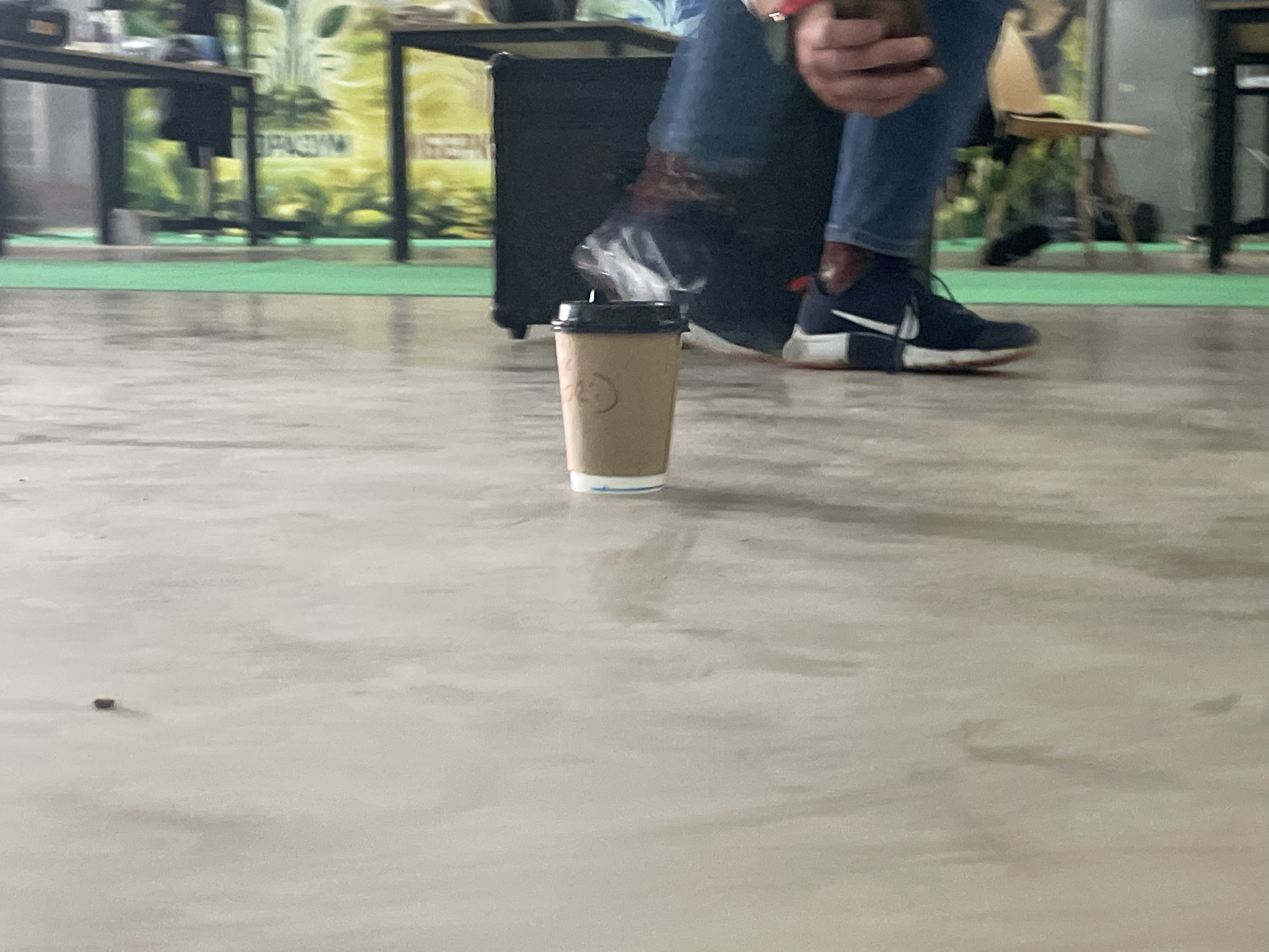cup: (552, 288, 682, 494)
